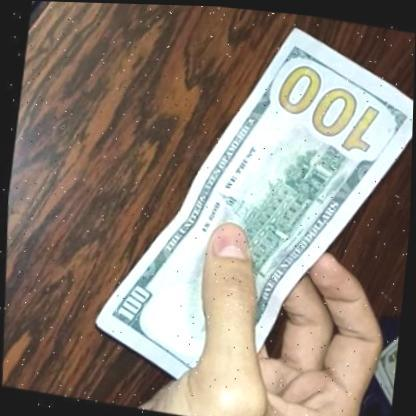dollar_back: (56, 2, 416, 416)
